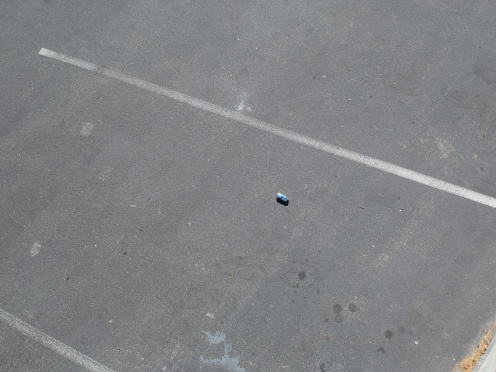can: (271, 189, 292, 205)
